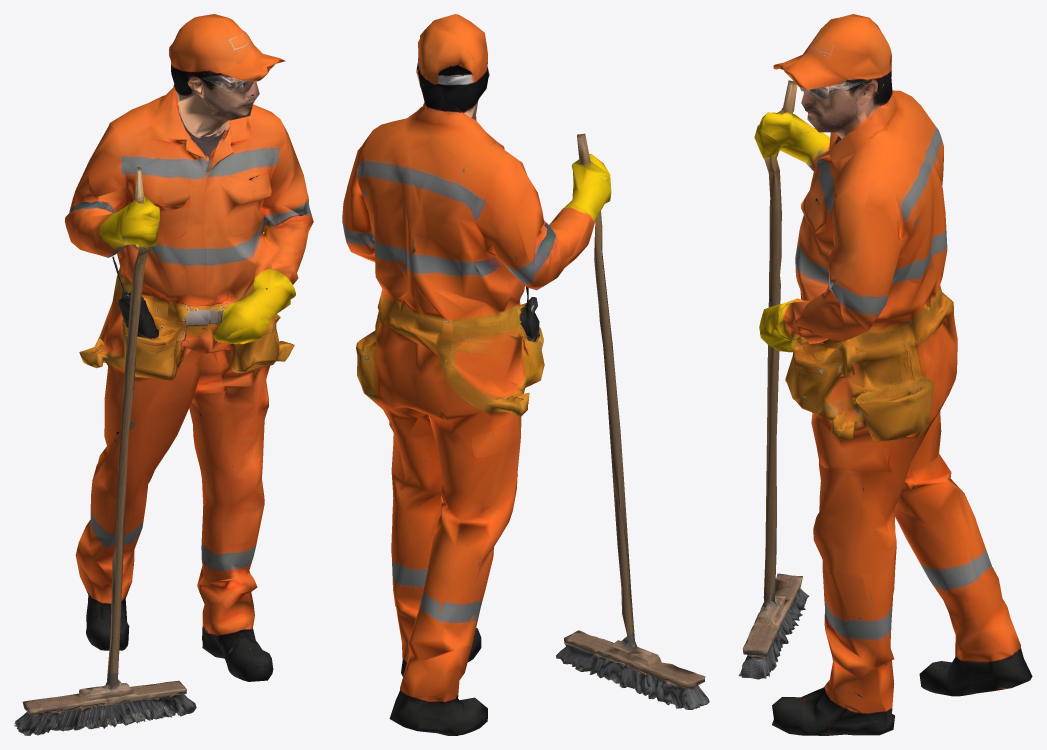
Rendered from guide-worker.glb.
The picture shows the model from 3 angles, left to right: view 1: azimuth 30°, elevation 25°; view 2: azimuth 150°, elevation 25°; view 3: azimuth 270°, elevation 25°; orthographic projection. The views are drawn at different scales.
Parts seen in each view (by area): view 1: Object_5; view 2: Object_5; view 3: Object_5.
Part boxes in pixels (x1=…): Object_5: x1=14, y1=14, x2=313, y2=735; Object_5: x1=342, y1=14, x2=709, y2=735; Object_5: x1=738, y1=14, x2=1032, y2=735.
Bounding box in the file's own units: 0.9968 × 1.9 × 0.7223.
1 material, 1 textured.
